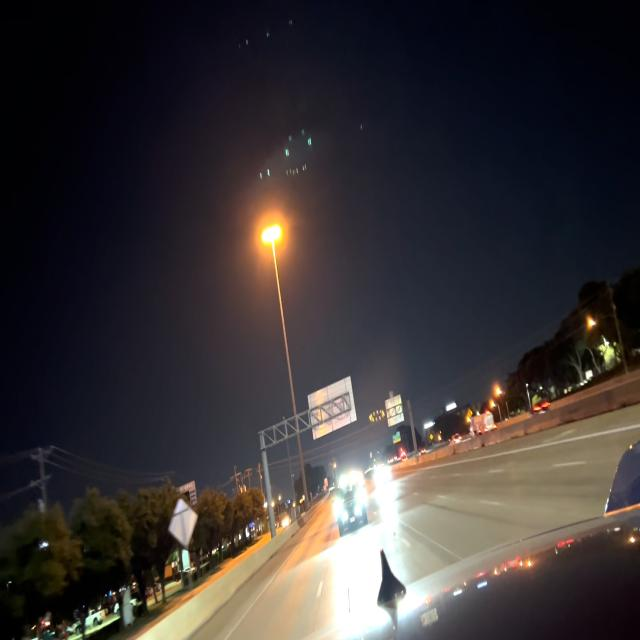back-of-sign: (309, 372, 358, 442), (170, 500, 199, 543), (386, 395, 404, 428)
